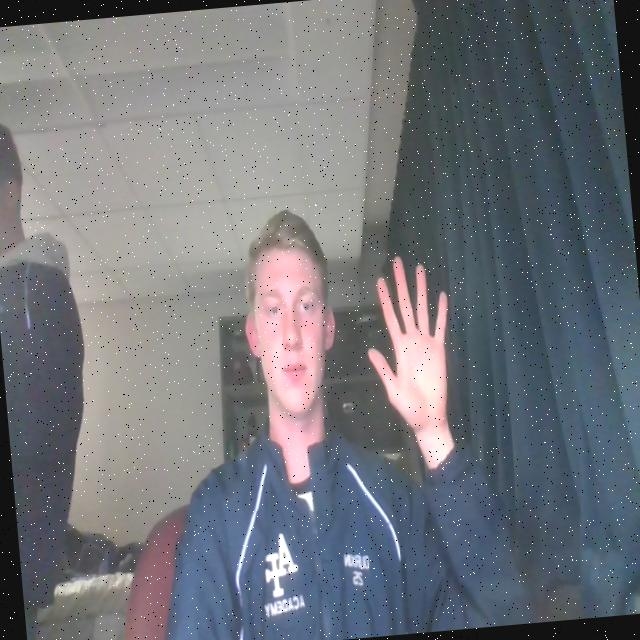paper: (356, 248, 464, 465)
